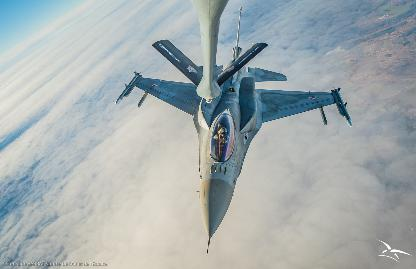F14: (115, 6, 352, 253)
